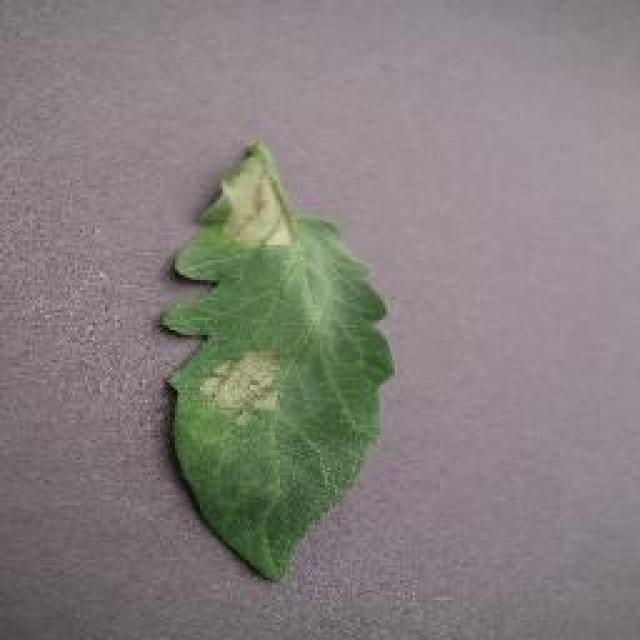Tomato Late Blight: (164, 155, 288, 420)
